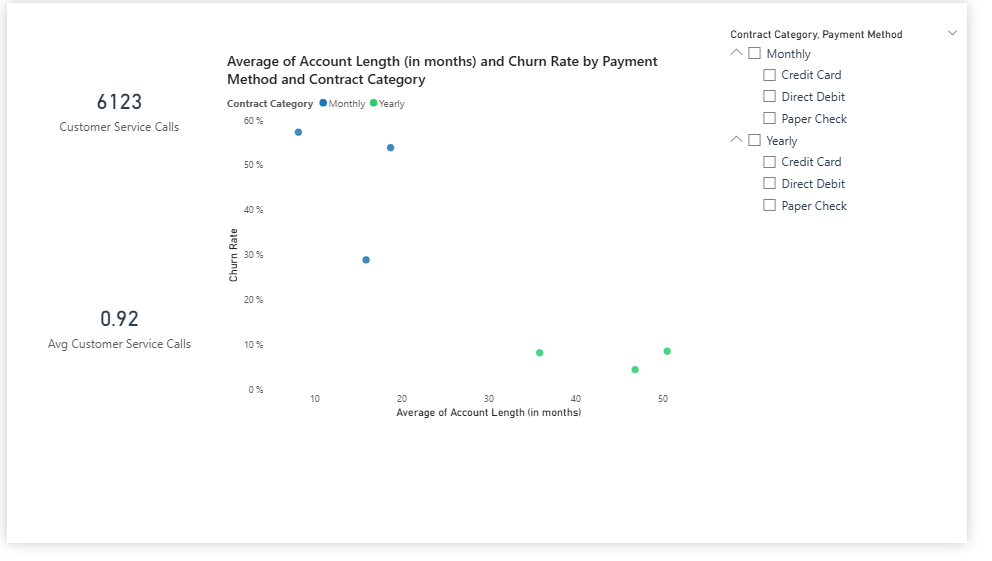

This screenshot's page, from the dashboard's own definition file:
{"tool":"powerbi","page":{"name":"Payment Behavior & Customer Churn","canvas":[1280,720],"ordinal":2},"visuals":[{"type":"card","fields":{"Values":["Sum(Databel - Data.Customer Service Calls)"]},"box":[10,0,280,280],"z":0},{"type":"card","fields":{"Values":["Databel - Data.Avg Customer Service Calls"]},"box":[10,290,280,280],"z":1000},{"type":"scatterChart","fields":{"Y":["Databel - Data.Churn Rate"],"X":["Databel - Data.Account Length (in months)"],"Category":["Databel - Data.Payment Method"],"Series":["Databel - Data.Contract Category"]},"box":[288,64,656,496],"z":2000},{"type":"slicer","fields":{"Values":["Databel - Data.Contract Category","Databel - Data.Payment Method"]},"box":[952,29,328,442],"z":3000}]}

Visuals, with their boxes in screenshot pixels (x1, y1, x2, y2), scaled from the page's 1280x720 canvas onto the 992x561 screenshot:
card - Sum(Databel - Data.Customer Service Calls): {"x1": 8, "y1": 0, "x2": 225, "y2": 218}
card - Databel - Data.Avg Customer Service Calls: {"x1": 8, "y1": 226, "x2": 225, "y2": 444}
scatterChart - Databel - Data.Churn Rate x Databel - Data.Account Length (in months): {"x1": 223, "y1": 50, "x2": 732, "y2": 436}
slicer - Databel - Data.Contract Category x Databel - Data.Payment Method: {"x1": 738, "y1": 23, "x2": 991, "y2": 367}
